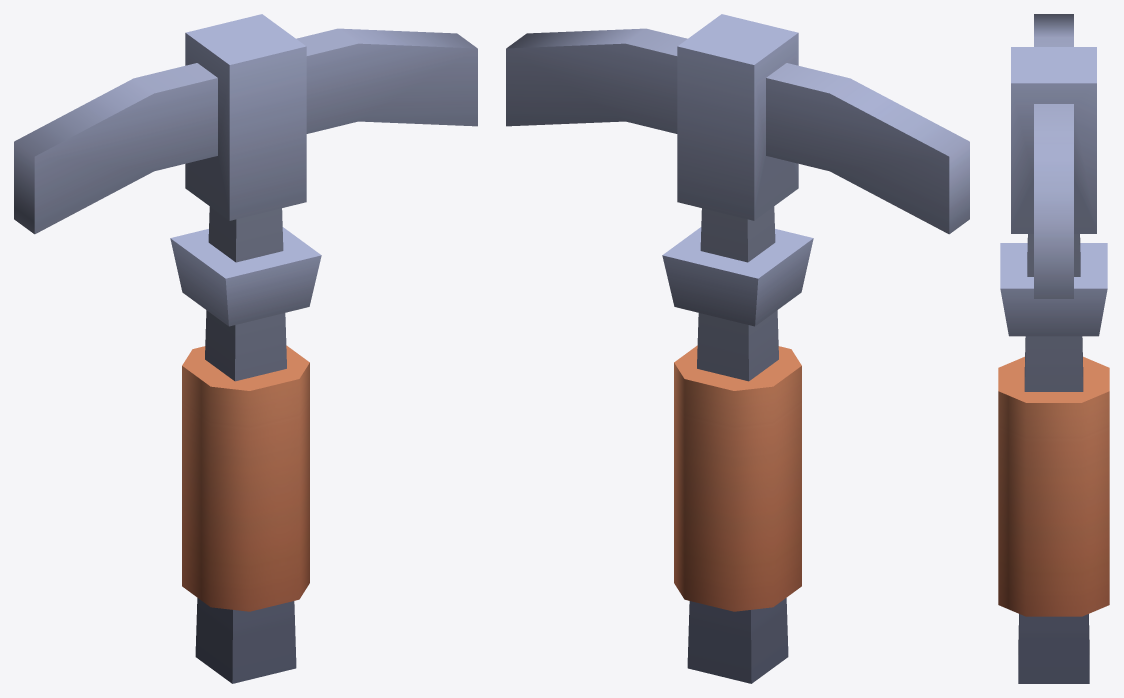
The model's file is kenney-survival-tool-pickaxe-upgraded.glb.
The picture shows the model from 3 angles, left to right: view 1: azimuth 30°, elevation 25°; view 2: azimuth 150°, elevation 25°; view 3: azimuth 270°, elevation 25°; orthographic projection. The views are drawn at different scales.
Parts seen in each view (by area): view 1: tool-pickaxe-upgraded; view 2: tool-pickaxe-upgraded; view 3: tool-pickaxe-upgraded.
Boxes of the visible parts, x1,y1,x2,y2 form: tool-pickaxe-upgraded: (14, 14, 477, 683); tool-pickaxe-upgraded: (506, 14, 969, 683); tool-pickaxe-upgraded: (998, 14, 1109, 683).
Size of the model in its own units: 0.1786 by 0.24 by 0.04.
1 material, 1 textured.
